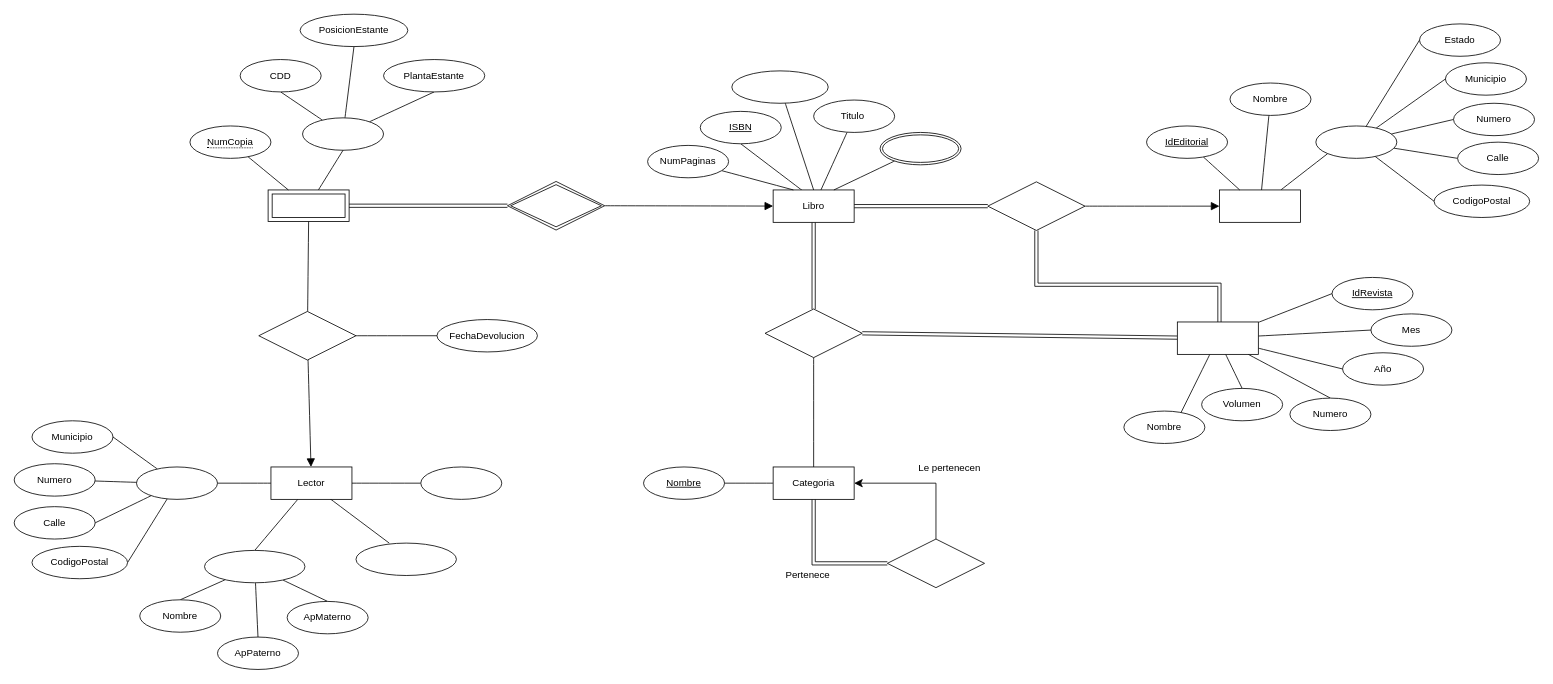
This 1553x684 diagram has some shape labels left out. The shapes that lost their labels are listed below. From the top down, each one's centre as x and y in pixels, then its label:
At point (779, 86): "AñoPublicacion".
At point (343, 133): "Lugar".
At point (920, 148): "Autor".
At point (1356, 141): "Ubicacion".
At point (308, 205): "Copia".
At point (556, 205): "Tener".
At point (1036, 205): "Publicar".
At point (1259, 205): "Editorial".
At point (307, 335): "Pedir".
At point (813, 333): "Asignar".
At point (1217, 337): "Revista".
At point (176, 482): "Direccion".
At point (461, 482): "IdLector".
At point (254, 566): "NombreCompleto".
At point (405, 559): "FechaNacimiento".
At point (936, 563): "Pertenecer".
